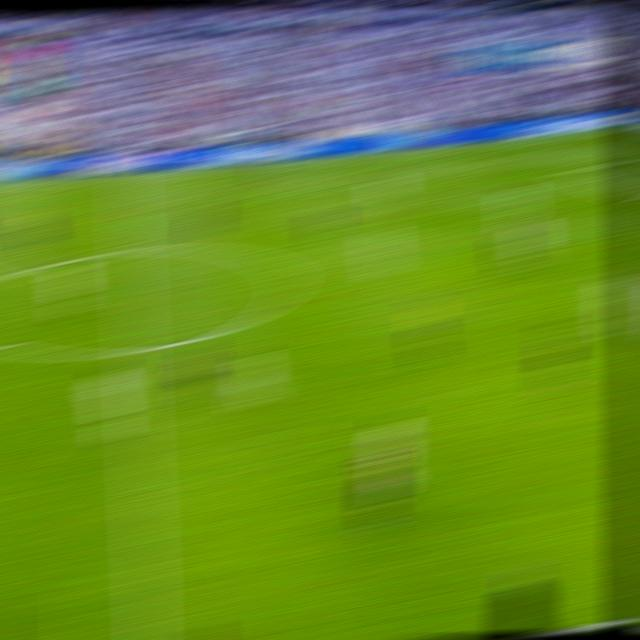bigarea_top_inner: (555, 164, 580, 175)
halfcircle_bottom: (119, 336, 151, 362)
halfcircle_top: (114, 239, 146, 262)
midline_top_intersection: (114, 174, 140, 185)
